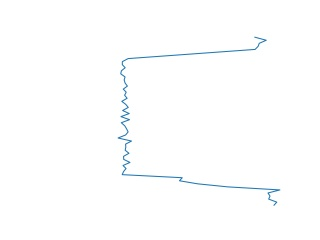distributaryChannelFill: (114, 35, 287, 207)
